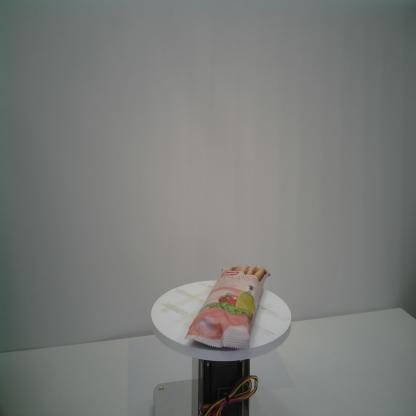Dessert: (185, 266, 270, 348)
